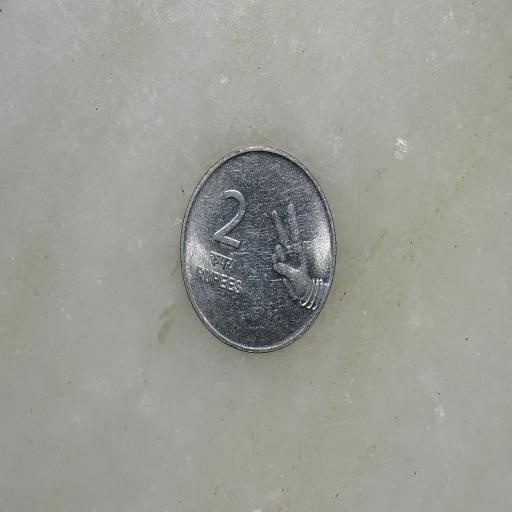rupee2: (177, 143, 342, 356)
